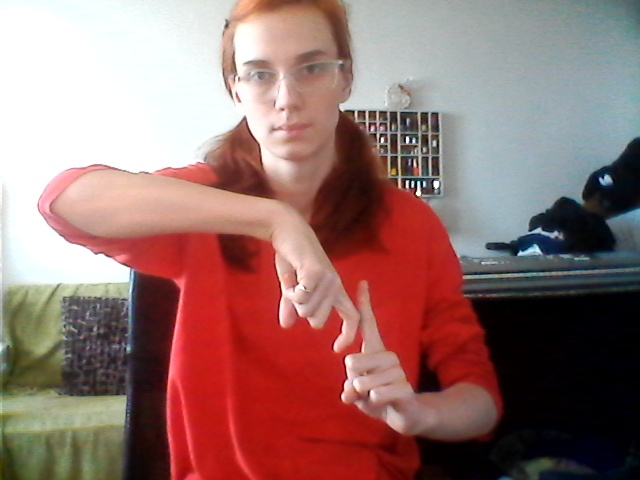k: (264, 239, 415, 439)
